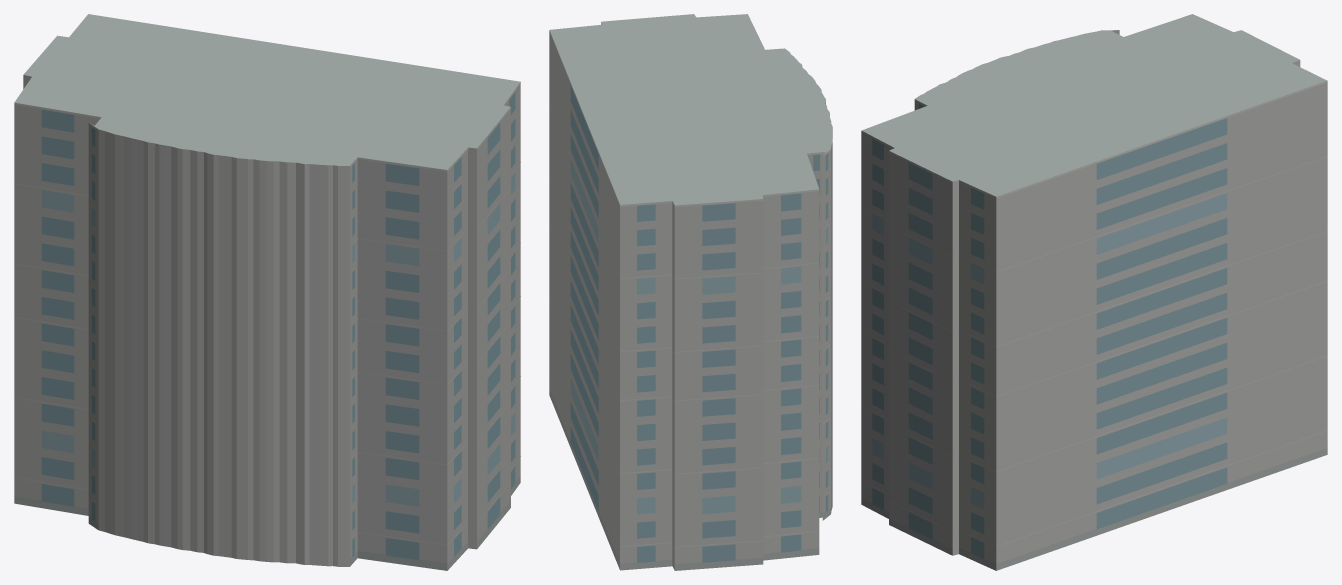
File: survey-upis-32939459.glb
3 views of the same model, side by side, from view 1: azimuth 30°, elevation 25°; view 2: azimuth 150°, elevation 25°; view 3: azimuth 270°, elevation 25° (orthographic). The views are drawn at different scales.
Visible parts, largest first — view 1: survey-upis-32939459.tmp; view 2: survey-upis-32939459.tmp; view 3: survey-upis-32939459.tmp.
Part boxes in pixels (left/top/right/bottom): survey-upis-32939459.tmp: left=14, top=14, right=520, bottom=570; survey-upis-32939459.tmp: left=549, top=14, right=832, bottom=570; survey-upis-32939459.tmp: left=861, top=14, right=1327, bottom=570.
Bounding box in the file's own units: 52.19 × 49.8 × 56.23.
